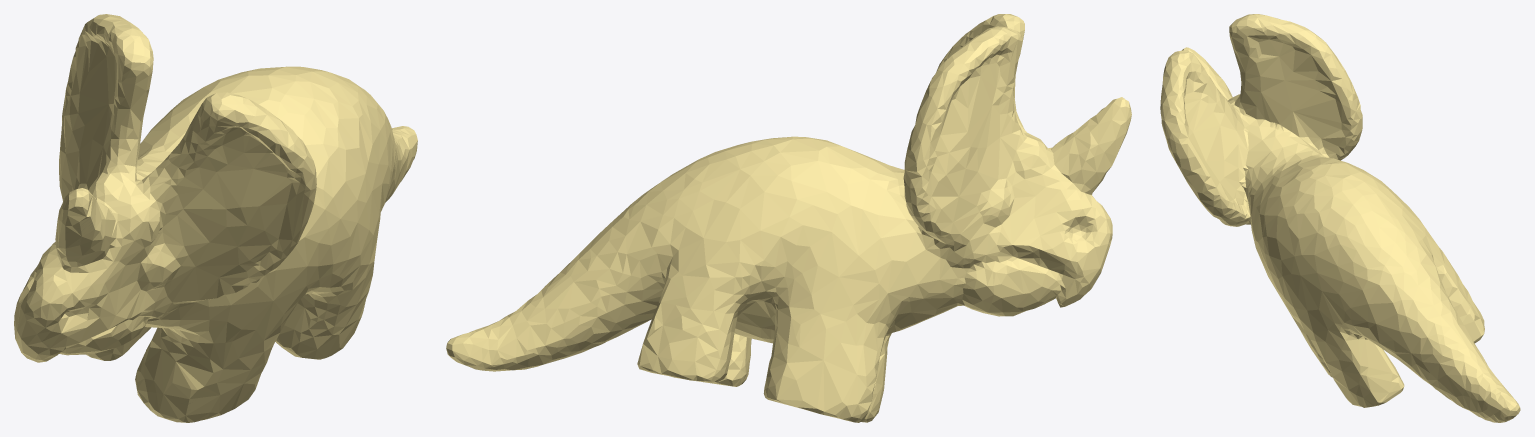
File: Triceratops.glb
The picture shows the model from 3 angles, left to right: view 1: azimuth 30°, elevation 25°; view 2: azimuth 150°, elevation 25°; view 3: azimuth 270°, elevation 25°; orthographic projection. The views are drawn at different scales.
Visible parts, largest first — view 1: node_id3; view 2: node_id3; view 3: node_id3.
Part boxes in pixels (x1=…): node_id3: x1=14, y1=14, x2=417, y2=422; node_id3: x1=446, y1=14, x2=1131, y2=422; node_id3: x1=1160, y1=14, x2=1520, y2=422.
Size of the model in its own units: 0.5601 by 0.4142 by 0.4378.
Materials: 1 (1 with a texture image).
